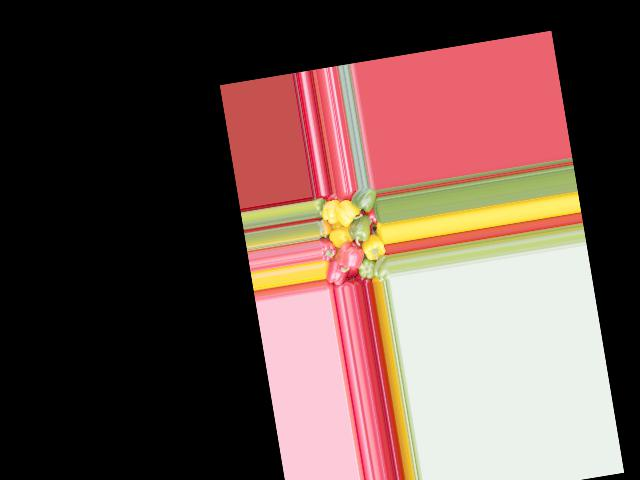bell_pepper: (313, 198, 327, 220)
